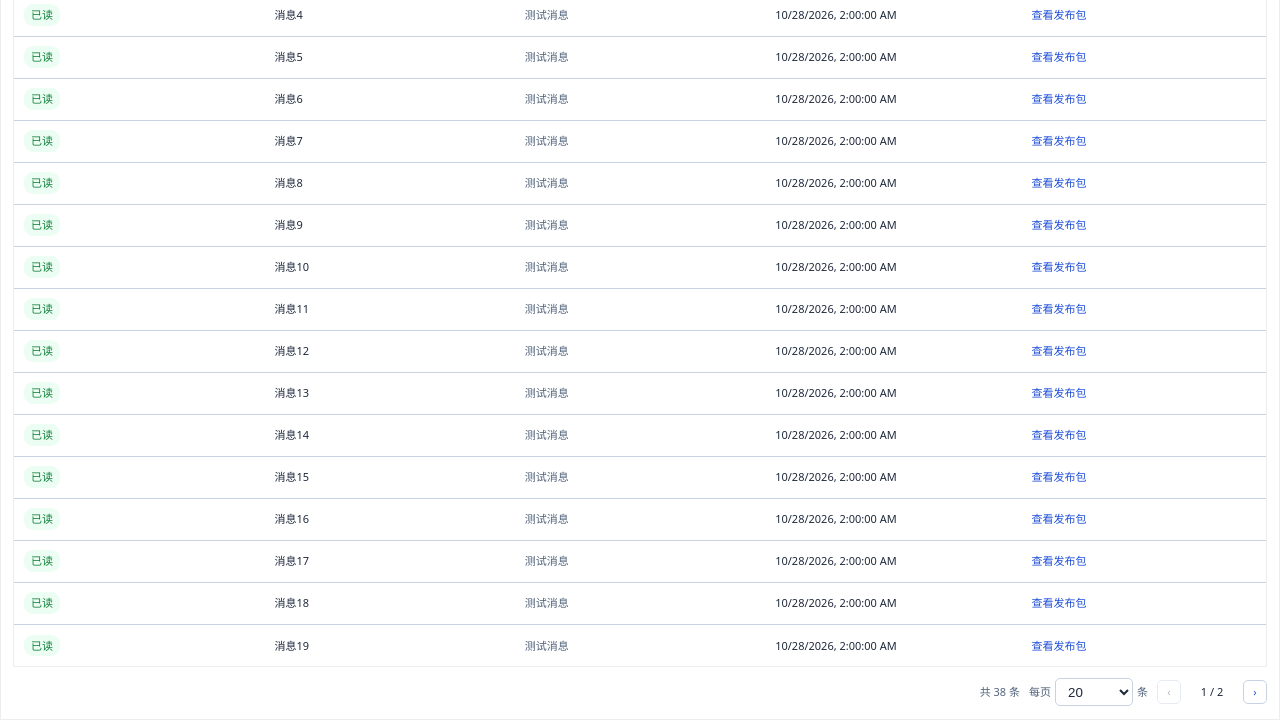
Test: MyTasks › 未读计数覆盖全部分页而非当前页，历史条数不变
(page scrolled)
Expected: the footer shows "共 38 条", 980,684 -> 1020,699
Step 1. Click the button named "下一页" → (1255, 692), box 1243,680 -> 1267,704
(page scrolled)
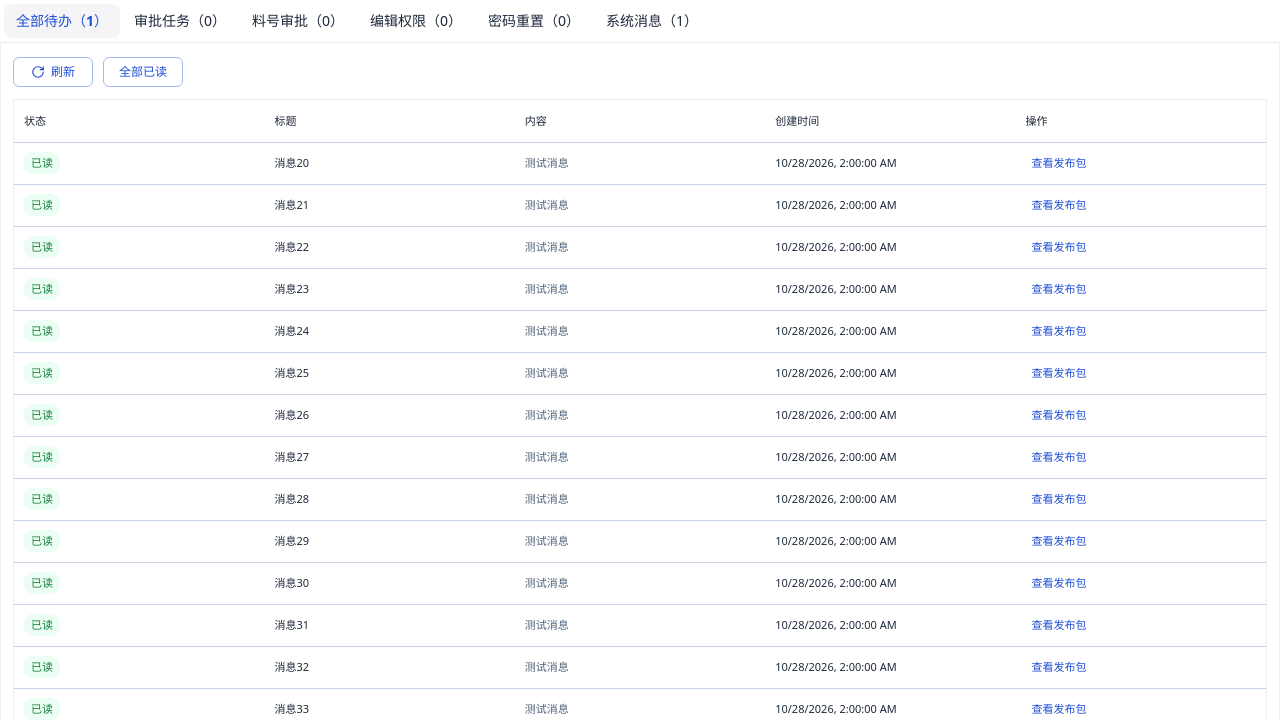
Result: the tab "全部待办（1）" is shown at 4,4 -> 120,38
